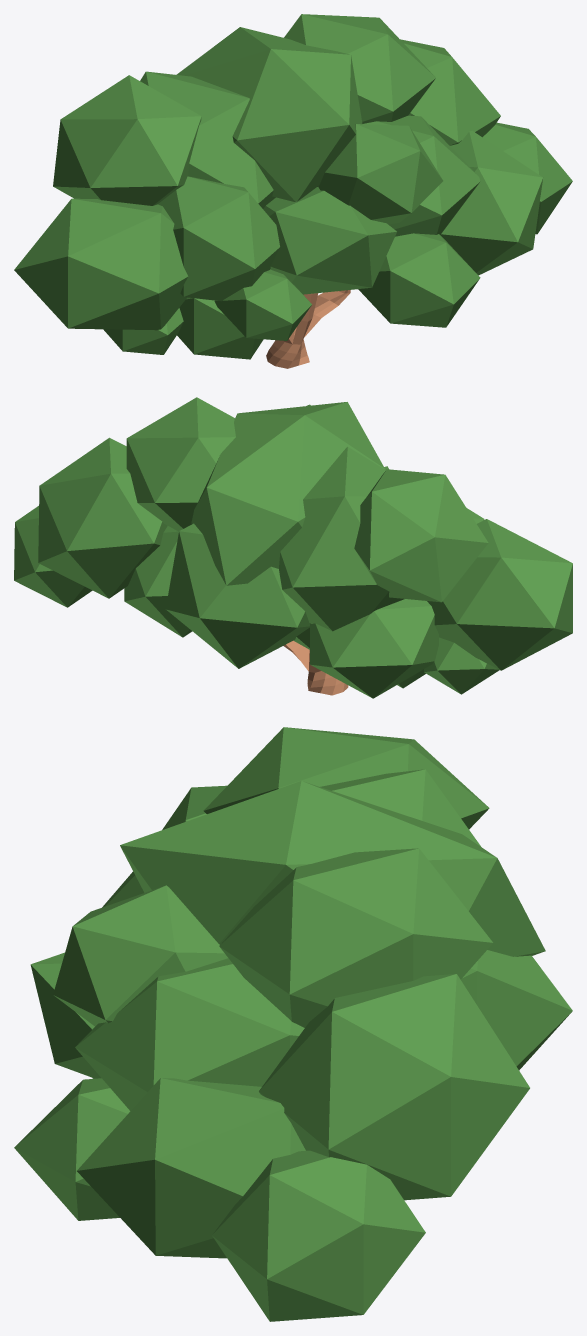
File: Big_Tree.fbx
The picture shows the model from 3 angles, top to bottom: view 1: azimuth 30°, elevation 25°; view 2: azimuth 150°, elevation 25°; view 3: azimuth 270°, elevation 25°; orthographic projection. The views are drawn at different scales.
Parts seen in each view (by area): view 1: leaf3, leaf12, leaf20, leaf4, leaf8, leaf6, leaf5, leaf16, leaf7, leaf1, leaf17, leaf2 (+5 smaller); view 2: leaf3, leaf12, leaf17, leaf20, leaf1, leaf19, leaf16, leaf14, leaf15, leaf18, leaf21, tree; view 3: leaf17, leaf3, leaf16, leaf18, leaf6, leaf2, leaf5, leaf20, leaf7, leaf19, leaf1, leaf8 (+1 smaller).
Part boxes in pixels (<box>): leaf3: <box>176,27,362,201</box>; leaf12: <box>14,198,188,330</box>; leaf20: <box>53,75,201,205</box>; leaf4: <box>158,176,279,301</box>; leaf8: <box>263,187,396,294</box>; leaf6: <box>440,130,542,275</box>; leaf5: <box>318,124,443,224</box>; leaf16: <box>284,14,435,123</box>; leaf7: <box>358,233,480,327</box>; leaf1: <box>140,71,275,208</box>; leaf17: <box>400,39,500,145</box>; leaf2: <box>317,115,480,236</box>; leaf3: <box>191,402,384,585</box>; leaf12: <box>427,519,572,670</box>; leaf17: <box>38,437,167,598</box>; leaf20: <box>354,469,488,602</box>; leaf1: <box>279,446,404,631</box>; leaf19: <box>165,523,309,668</box>; leaf16: <box>126,397,235,531</box>; leaf14: <box>310,599,438,698</box>; leaf15: <box>124,526,192,637</box>; leaf18: <box>14,506,92,607</box>; leaf21: <box>424,637,499,694</box>; tree: <box>283,640,348,695</box>; leaf17: <box>259,974,529,1200</box>; leaf3: <box>120,781,545,956</box>; leaf16: <box>219,848,492,1027</box>; leaf18: <box>212,1150,425,1321</box>; leaf6: <box>77,1078,305,1258</box>; leaf2: <box>75,958,304,1110</box>; leaf5: <box>53,885,227,1026</box>; leaf20: <box>203,727,489,829</box>; leaf7: <box>14,1078,130,1220</box>; leaf19: <box>461,950,572,1070</box>; leaf1: <box>320,769,480,846</box>; leaf8: <box>30,952,101,1078</box>.
Size of the model in its own units: 839 by 500 by 430.
